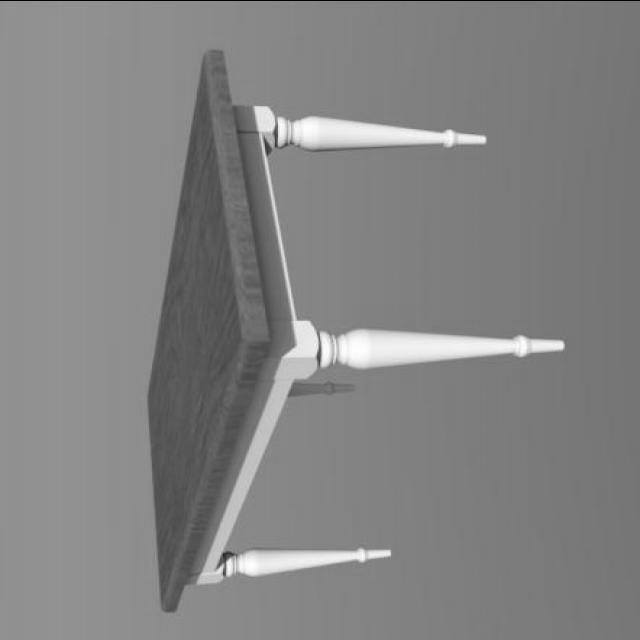table: (148, 50, 564, 610)
